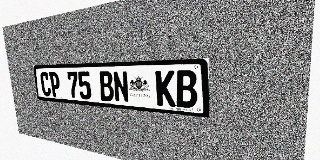5: (77, 71, 92, 100)
7: (66, 72, 80, 99)
B: (175, 70, 197, 109), (98, 71, 114, 102)
C: (40, 72, 52, 96)
K: (155, 70, 176, 107)
N: (112, 71, 130, 103)
P: (49, 72, 61, 97)
